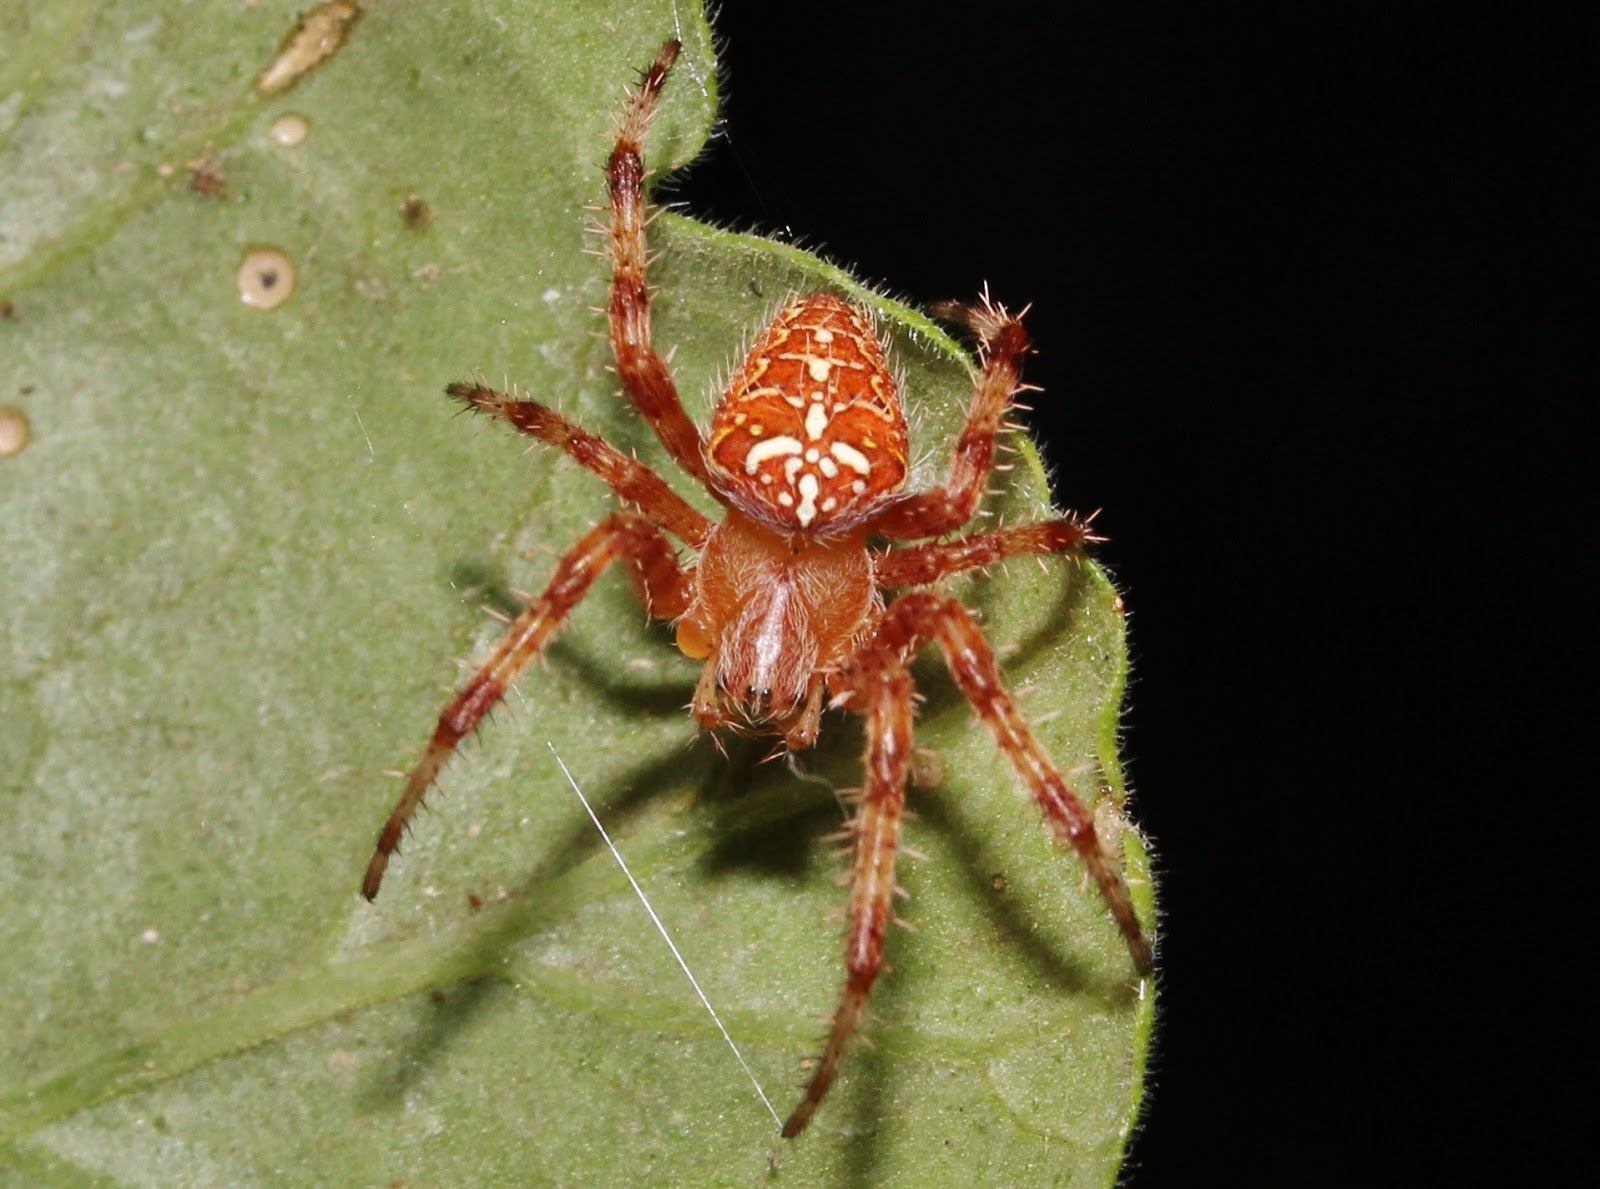spider: (331, 52, 1187, 1159)
